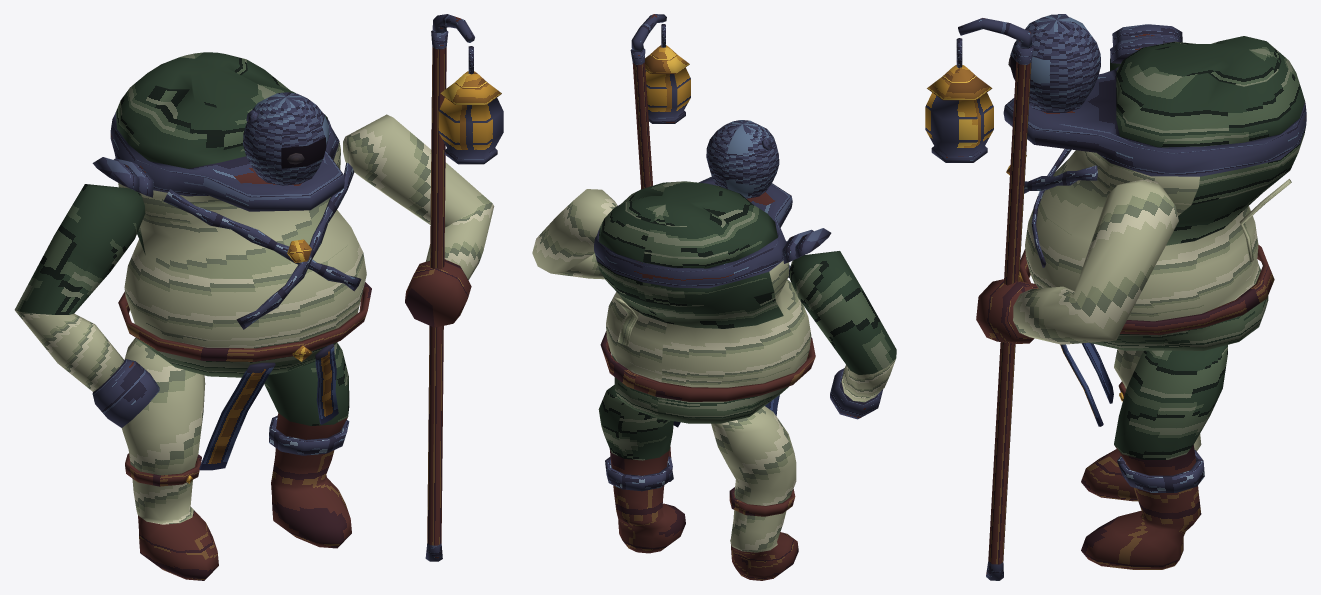
File: gruftwaechter_J1.glb
3 views of the same model, side by side, from view 1: azimuth 30°, elevation 25°; view 2: azimuth 150°, elevation 25°; view 3: azimuth 270°, elevation 25° (orthographic). The views are drawn at different scales.
Visible parts, largest first — view 1: torso, arm_l, gear, leg_l, arm_r, pole, leg_r, head; view 2: torso, arm_l, leg_l, leg_r, gear, pole, arm_r, head; view 3: torso, leg_r, arm_r, pole, gear, head, leg_l, arm_l.
Part boxes in pixels (left/top/right/bottom): torso: left=110, top=52, right=366, bottom=377; arm_l: left=14, top=157, right=159, bottom=427; gear: left=118, top=110, right=371, bottom=486; leg_l: left=121, top=337, right=218, bottom=580; arm_r: left=343, top=114, right=494, bottom=327; pole: left=425, top=14, right=503, bottom=561; leg_r: left=264, top=342, right=351, bottom=548; head: left=243, top=92, right=328, bottom=185; torso: left=594, top=176, right=811, bottom=423; arm_l: left=782, top=228, right=896, bottom=419; leg_l: left=711, top=406, right=798, bottom=580; leg_r: left=598, top=385, right=685, bottom=553; gear: left=600, top=138, right=815, bottom=516; pole: left=630, top=14, right=690, bottom=481; arm_r: left=532, top=189, right=617, bottom=279; head: left=706, top=120, right=779, bottom=198; torso: left=1003, top=36, right=1306, bottom=350; leg_r: left=1081, top=345, right=1227, bottom=569; arm_r: left=976, top=178, right=1178, bottom=344; pole: left=925, top=18, right=1033, bottom=580; gear: left=1006, top=14, right=1291, bottom=492; head: left=1010, top=14, right=1100, bottom=112; leg_l: left=1081, top=349, right=1201, bottom=501; arm_l: left=1110, top=24, right=1182, bottom=70.
Size of the model in its own units: 2.16 by 2.52 by 1.5.
1 material, 1 textured.
